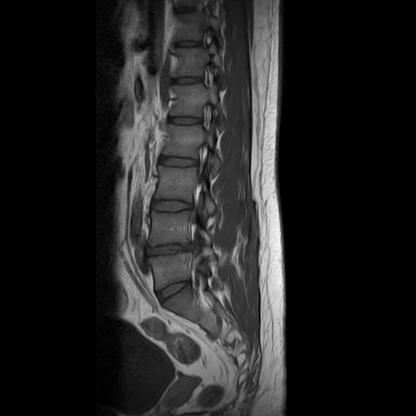Disc Bulgerotation: (145, 240, 195, 262)
